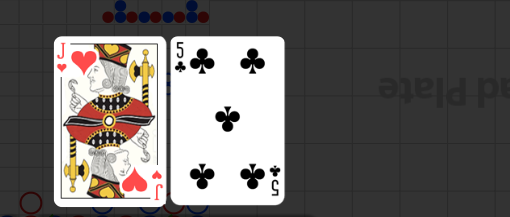5C: (174, 41, 188, 75)
5H: (151, 169, 164, 201)
